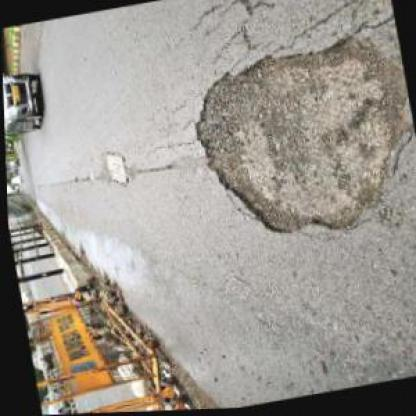pothole: (173, 29, 415, 261)
